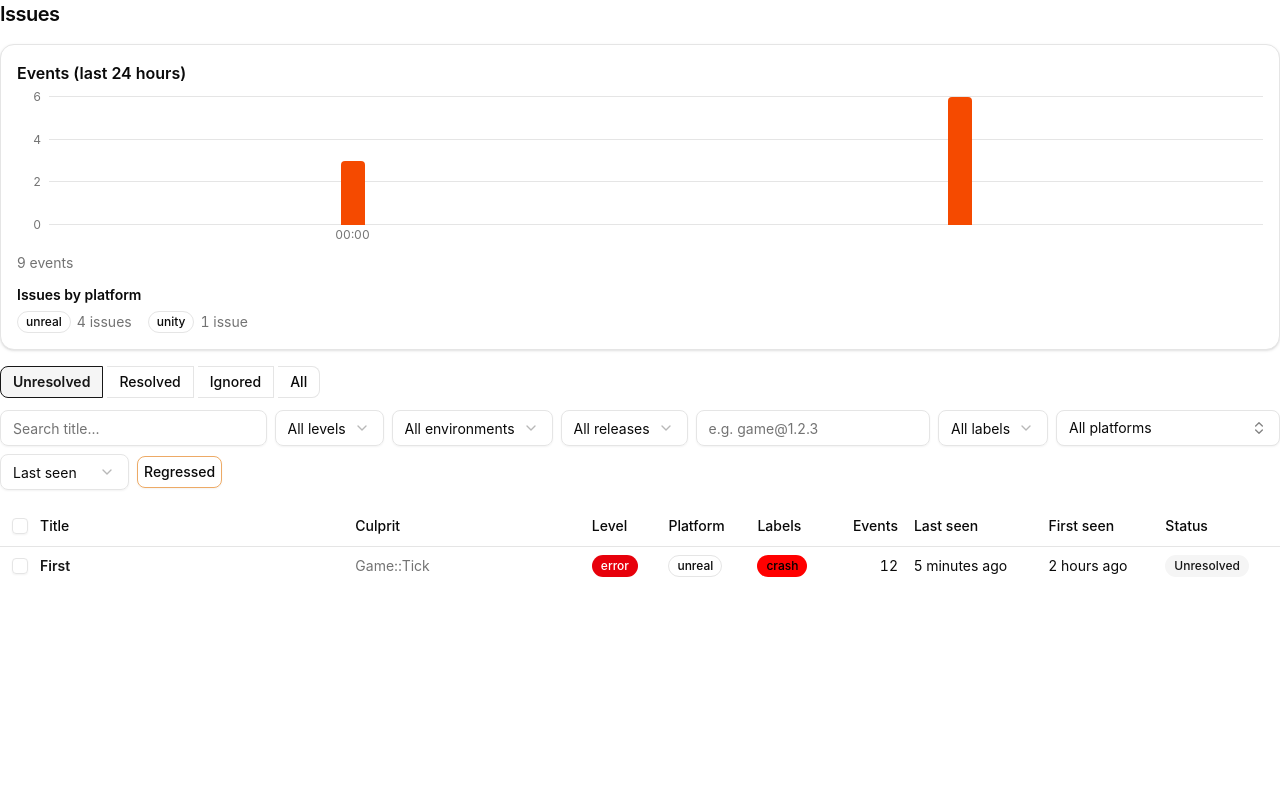
Test: IssuesPage › deletes the selection after confirmation
Check: the link "First" is shown, box [40,556,70,574]
What coordinates should you click on to do the following:
click the checkbox named "Select issue 1"
I would click on:
 (20, 566)
Its box is [12,558,28,574].
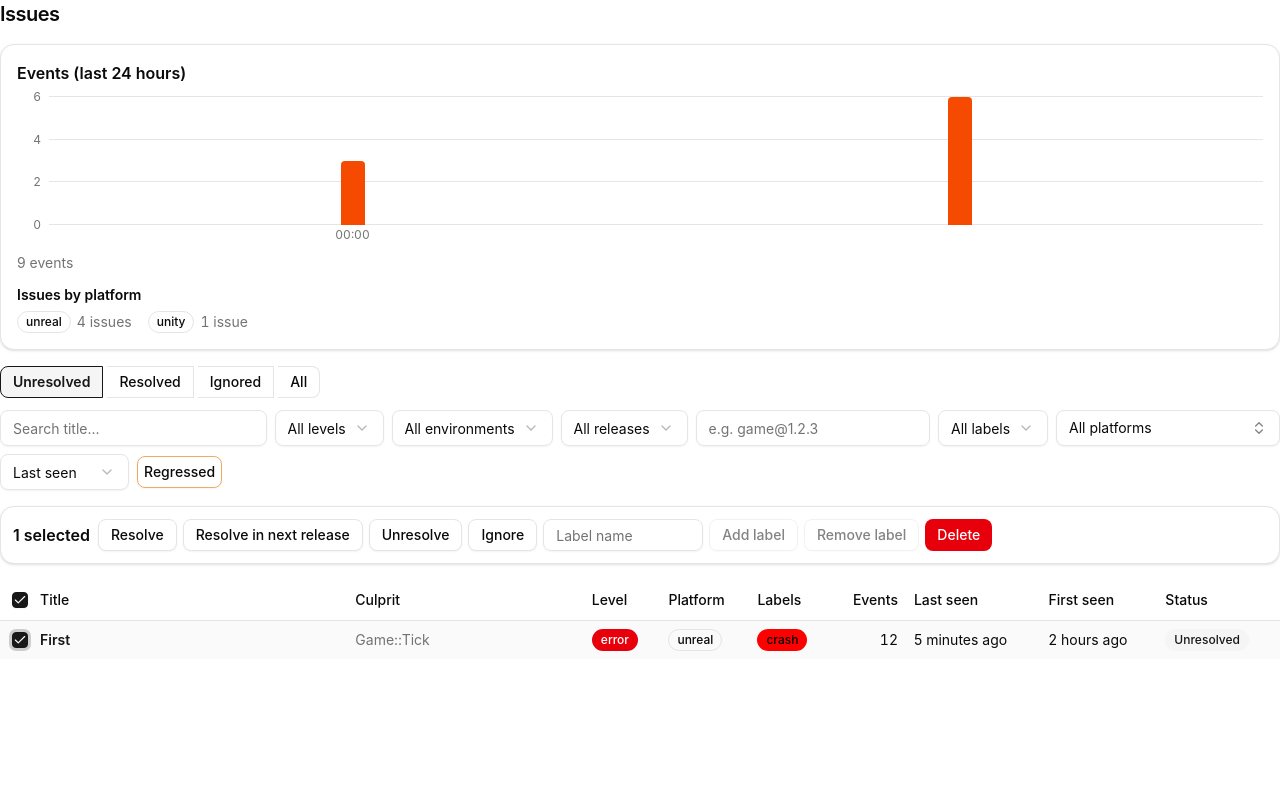
What coordinates should you click on to do the following:
click the button "Delete"
I would click on:
 (959, 535)
Its box is [925,519,992,551].
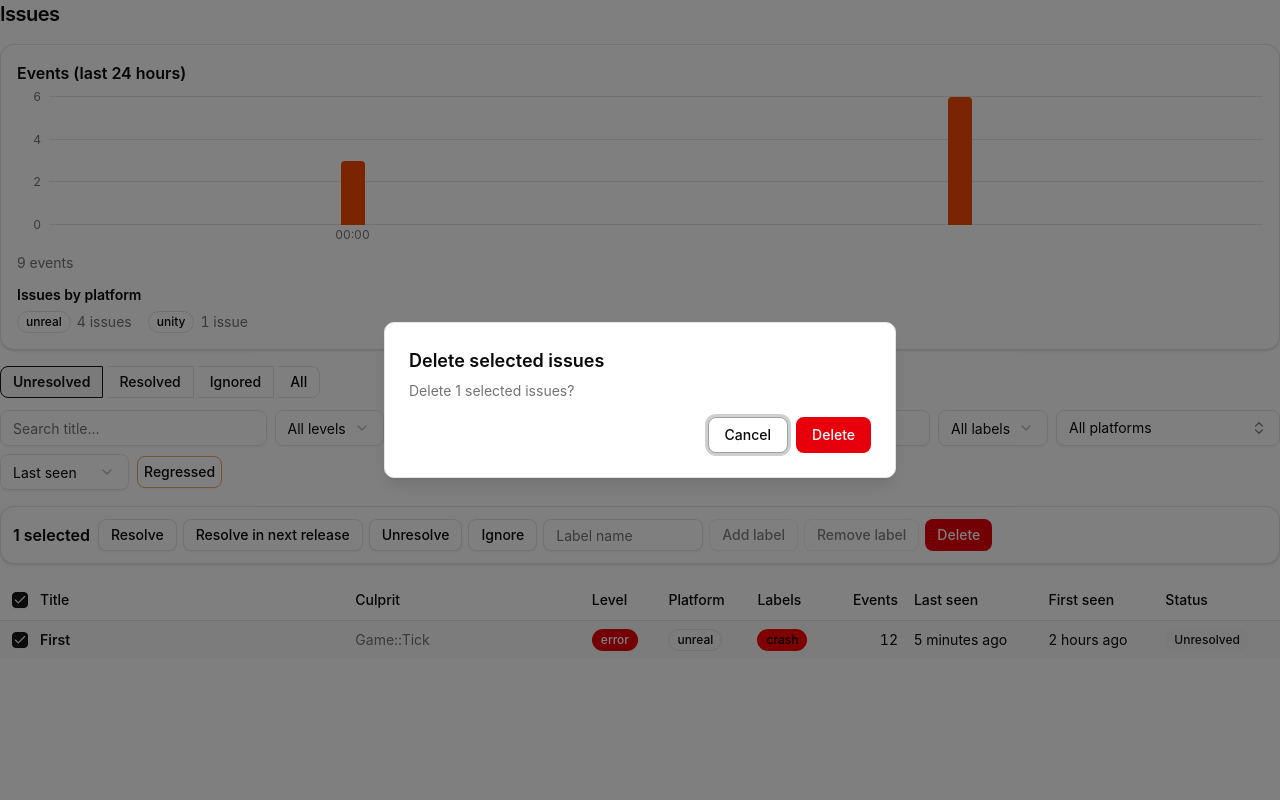
Check: the heading "Delete selected issues" is shown, box [409,347,604,375]
Check: the text "Delete 1 selected issues?" is shown, box [409,381,574,401]
What coordinates should you click on to do the following:
click the button "Delete"
I would click on:
 (834, 435)
Its box is [796,417,871,453].
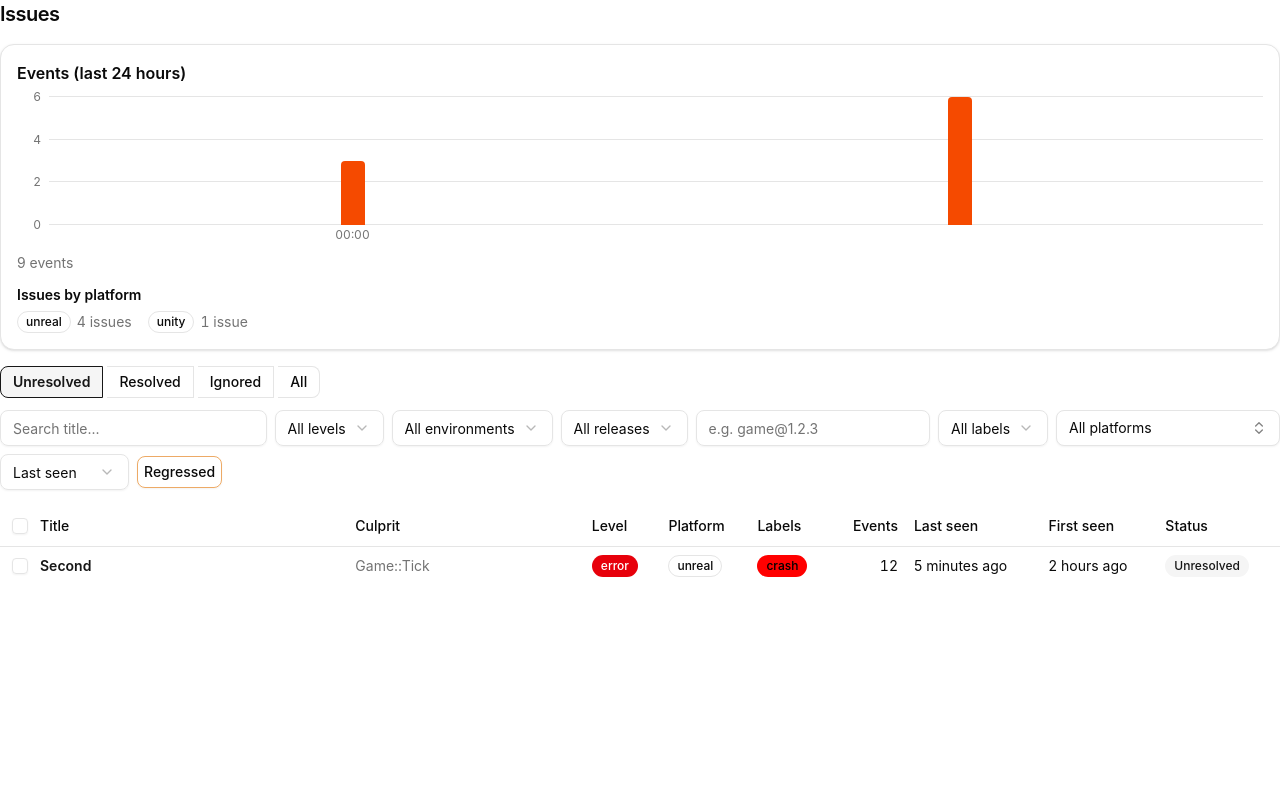
Check: the link "Second" is shown, box [40,556,91,574]
